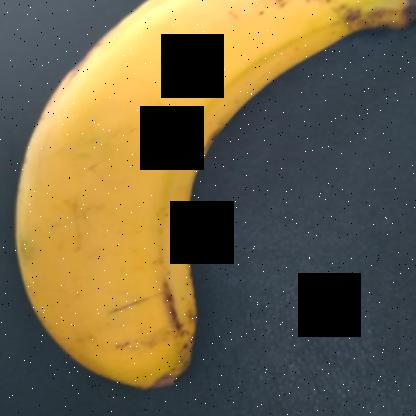freshripe: (9, 0, 415, 411)
